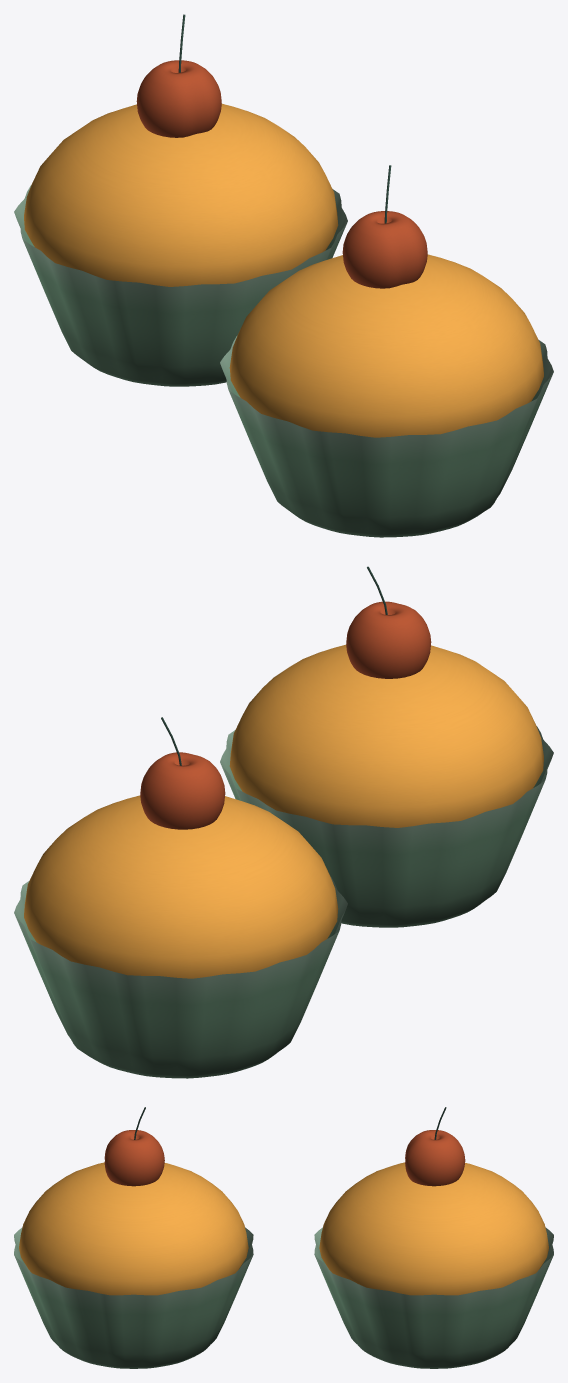
Rendered from Low_Cupcake.fbx.
The picture shows the model from 3 angles, top to bottom: view 1: azimuth 30°, elevation 25°; view 2: azimuth 150°, elevation 25°; view 3: azimuth 270°, elevation 25°; orthographic projection. The views are drawn at different scales.
Visible parts, largest first — view 1: Low_Cupake; view 2: Low_Cupake; view 3: Low_Cupake.
Part boxes in pixels (x1,y1,x2,y2): Low_Cupake: (14,14,553,537); Low_Cupake: (14,566,553,1078); Low_Cupake: (14,1107,553,1368).
Size of the model in its own units: 11.09 by 11.96 by 25.01.
